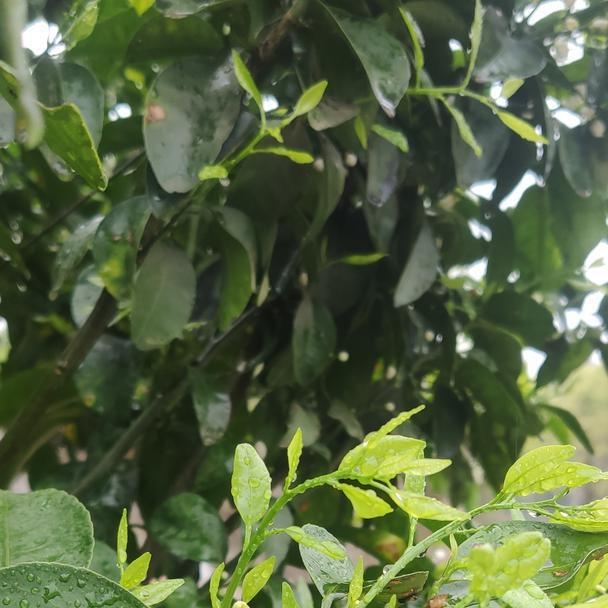shoot: (194, 407, 450, 602), (365, 448, 608, 593), (377, 8, 548, 156), (214, 62, 326, 200)
